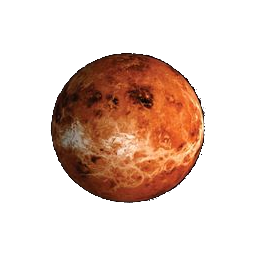planet: (49, 51, 213, 205)
